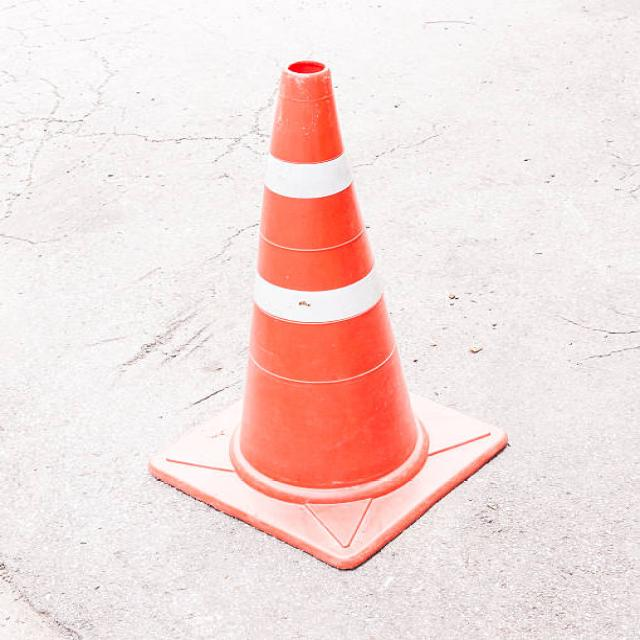Traffic Cone: (105, 33, 545, 593)
